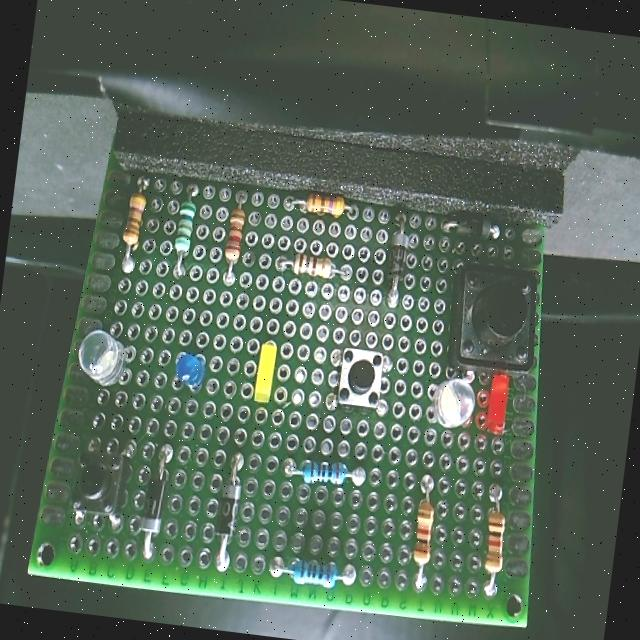diode: (204, 470, 254, 556), (438, 203, 520, 250), (377, 214, 416, 310), (132, 464, 176, 545)
led: (74, 317, 134, 388), (424, 367, 482, 438), (468, 371, 517, 444), (248, 340, 283, 400), (168, 352, 208, 402)
resistor: (471, 491, 515, 588), (274, 546, 354, 597), (107, 178, 156, 257), (292, 442, 352, 501), (402, 484, 442, 571), (212, 198, 250, 284), (294, 182, 361, 228), (165, 188, 202, 262), (281, 248, 343, 288)
switch: (443, 255, 543, 381), (63, 439, 133, 526), (328, 343, 389, 415)
